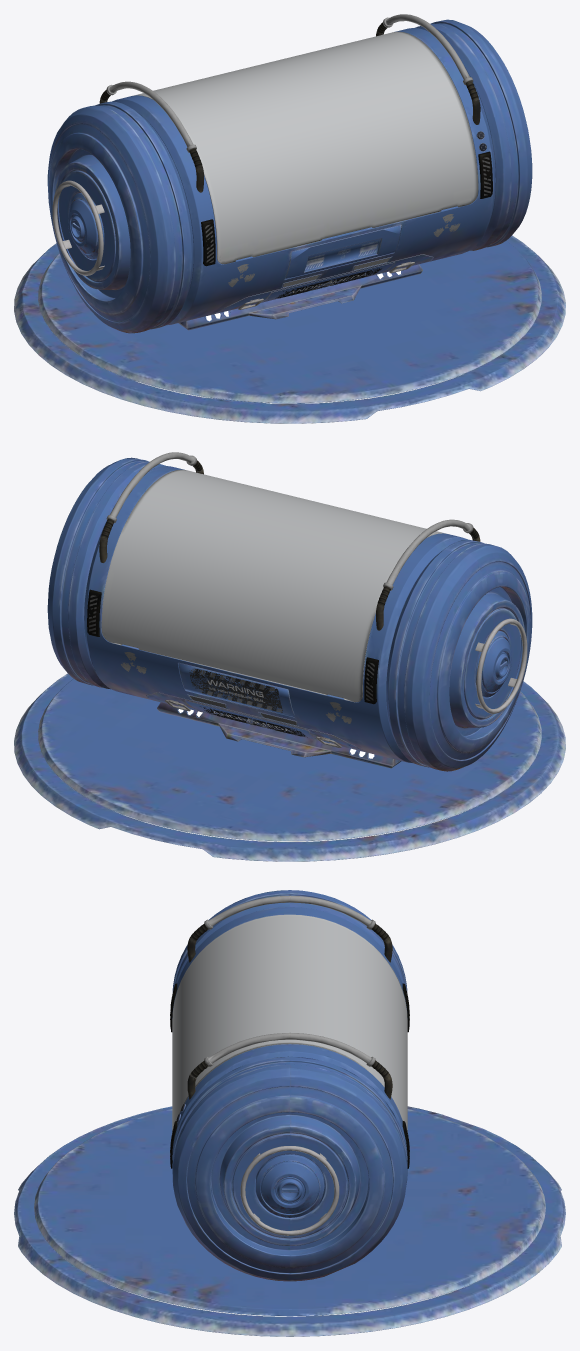
Rendered from treasure-chest.glb.
The picture shows the model from 3 angles, top to bottom: view 1: azimuth 30°, elevation 25°; view 2: azimuth 150°, elevation 25°; view 3: azimuth 270°, elevation 25°; orthographic projection.
Parts seen in each view (by area): view 1: Platform_Platform_0, lid.005_Glass lid_0, sides_Sides_0, main body_Main body_0, mainbody cutouts_Main body cutouts_0, handles_handles_0, side canisters_Side canisters_0, outer ring hold.003_side ring rails_0, pads_Pads_0, logo3_logo3_0; view 2: Platform_Platform_0, lid.005_Glass lid_0, sides_Sides_0, main body_Main body_0, mainbody cutouts_Main body cutouts_0, handles_handles_0, pressure_pressure_0, side canisters_Side canisters_0, outer ring hold.003_side ring rails_0, pads_Pads_0, logo3_logo3_0; view 3: Platform_Platform_0, sides_Sides_0, lid.005_Glass lid_0, main body_Main body_0, handles_handles_0, side canisters_Side canisters_0, outer ring hold.003_side ring rails_0, pads_Pads_0.
Part boxes in pixels (x1,y1,x2,y2): Platform_Platform_0: [14, 235, 565, 423]; lid.005_Glass lid_0: [132, 31, 478, 264]; sides_Sides_0: [47, 19, 532, 333]; main body_Main body_0: [112, 28, 495, 325]; mainbody cutouts_Main body cutouts_0: [178, 225, 432, 330]; handles_handles_0: [99, 14, 480, 192]; side canisters_Side canisters_0: [68, 193, 104, 259]; outer ring hold.003_side ring rails_0: [52, 180, 104, 275]; pads_Pads_0: [201, 151, 492, 266]; logo3_logo3_0: [275, 268, 381, 298]; Platform_Platform_0: [14, 673, 565, 861]; lid.005_Glass lid_0: [101, 469, 445, 702]; sides_Sides_0: [47, 457, 532, 771]; main body_Main body_0: [84, 466, 467, 763]; mainbody cutouts_Main body cutouts_0: [147, 663, 401, 768]; handles_handles_0: [99, 452, 480, 630]; pressure_pressure_0: [189, 668, 282, 712]; side canisters_Side canisters_0: [475, 630, 511, 697]; outer ring hold.003_side ring rails_0: [475, 618, 527, 713]; pads_Pads_0: [87, 589, 378, 704]; logo3_logo3_0: [200, 706, 307, 737]; Platform_Platform_0: [14, 1106, 565, 1336]; sides_Sides_0: [172, 890, 407, 1281]; lid.005_Glass lid_0: [172, 914, 407, 1130]; main body_Main body_0: [172, 907, 407, 1159]; handles_handles_0: [187, 895, 392, 1099]; side canisters_Side canisters_0: [256, 1154, 324, 1217]; outer ring hold.003_side ring rails_0: [240, 1146, 339, 1235]; pads_Pads_0: [170, 983, 409, 1168].
Bounding box in the file's own units: 4.77 × 2.38 × 4.69.
Materials: 19 (15 with a texture image).
